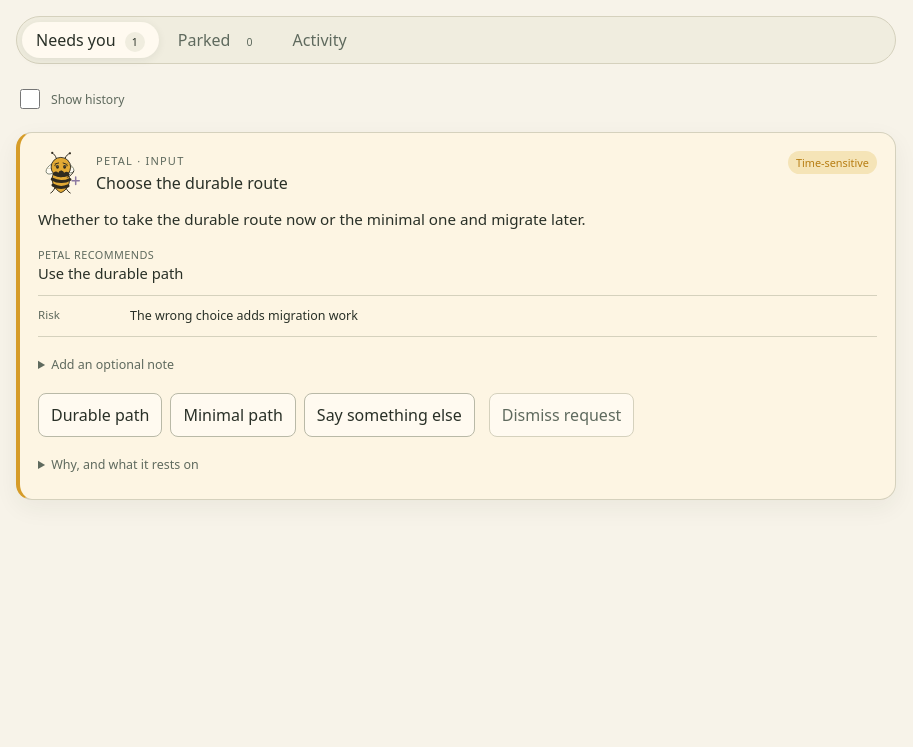
a view without answer transport reports a failure instead of silently consuming custom text
Click the button "Say something else" at (389, 415), box [304,393,475,437]
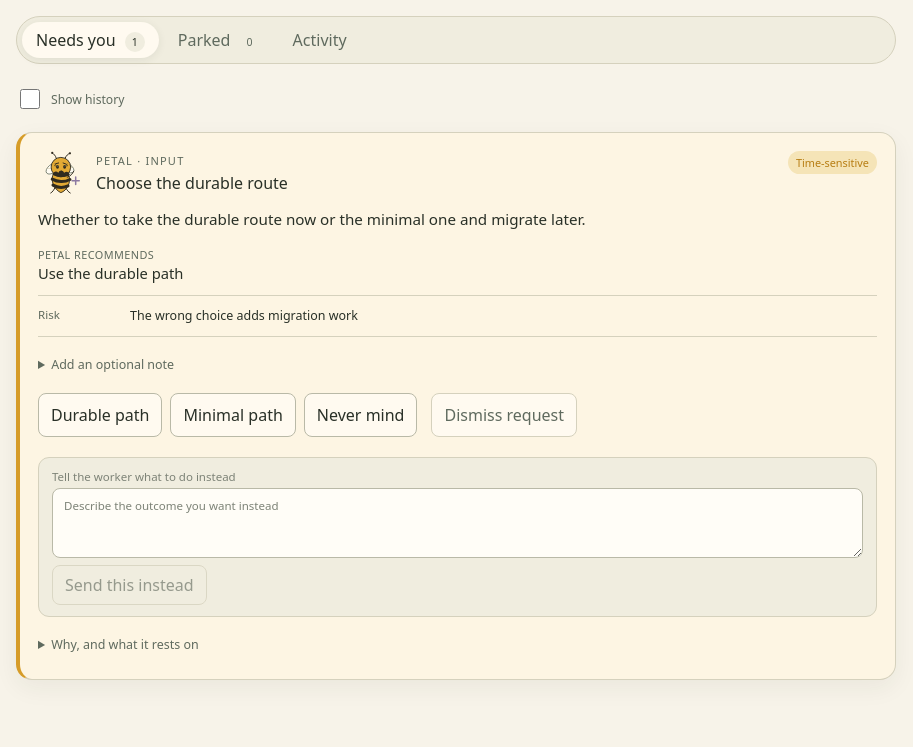
Type "Keep my answer" into the text box labelled "Tell the worker what to do instead" at (458, 523), box [52,488,863,558]
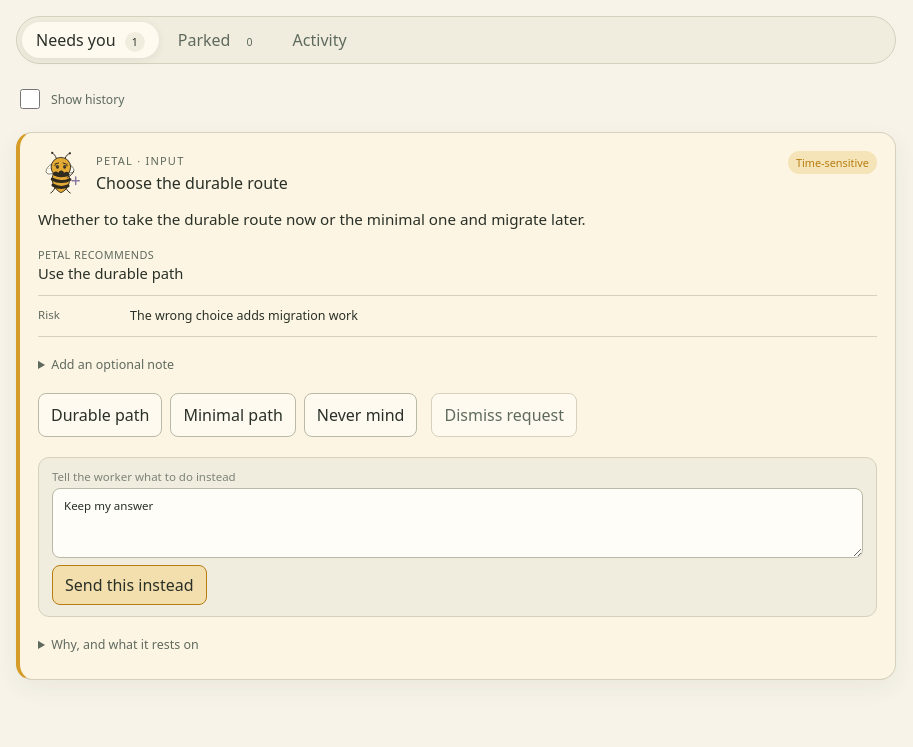
Click the button "Send this instead" at (129, 585), box [52,565,207,605]
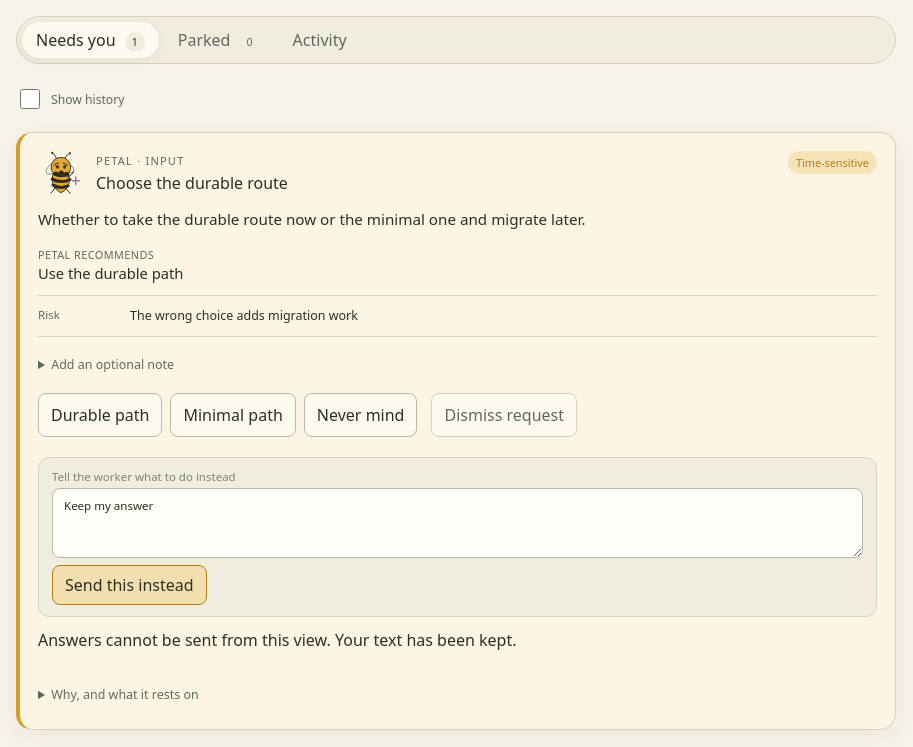
Result: the message shows "Answers cannot be sent from this view" at [38,629,516,651]
